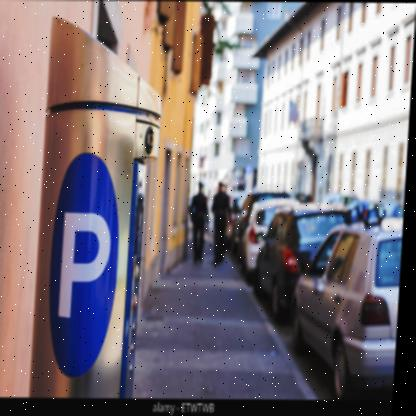Parking: (48, 142, 129, 395)
